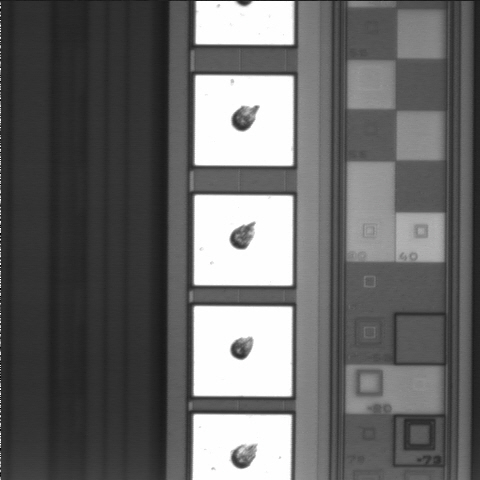pad: (195, 75, 293, 166), (194, 195, 293, 285), (194, 306, 292, 396)
